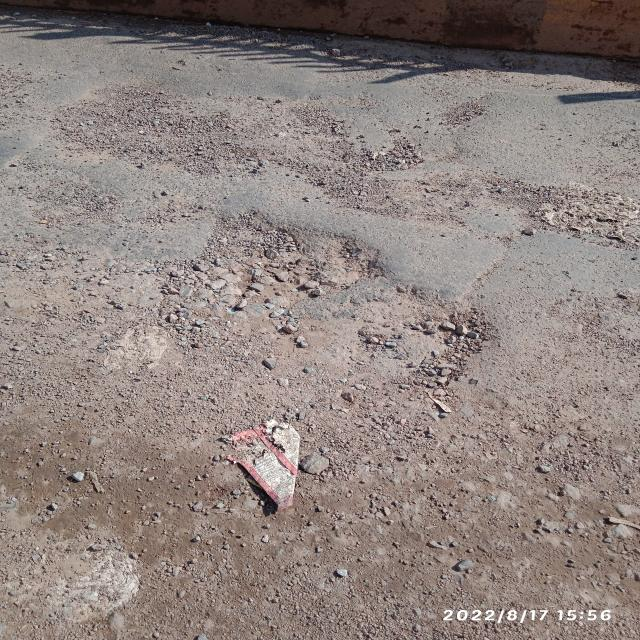potholes: (164, 206, 488, 406)
